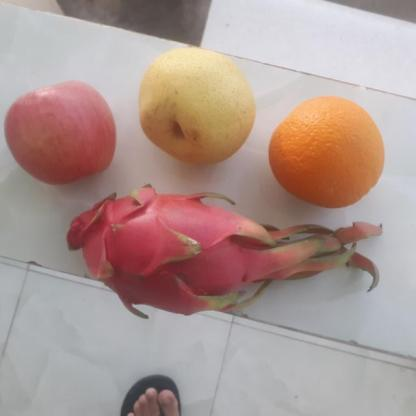apple: (0, 81, 116, 183)
orange: (266, 92, 388, 209)
pear: (132, 49, 258, 165)
pitaya: (72, 190, 258, 310)
